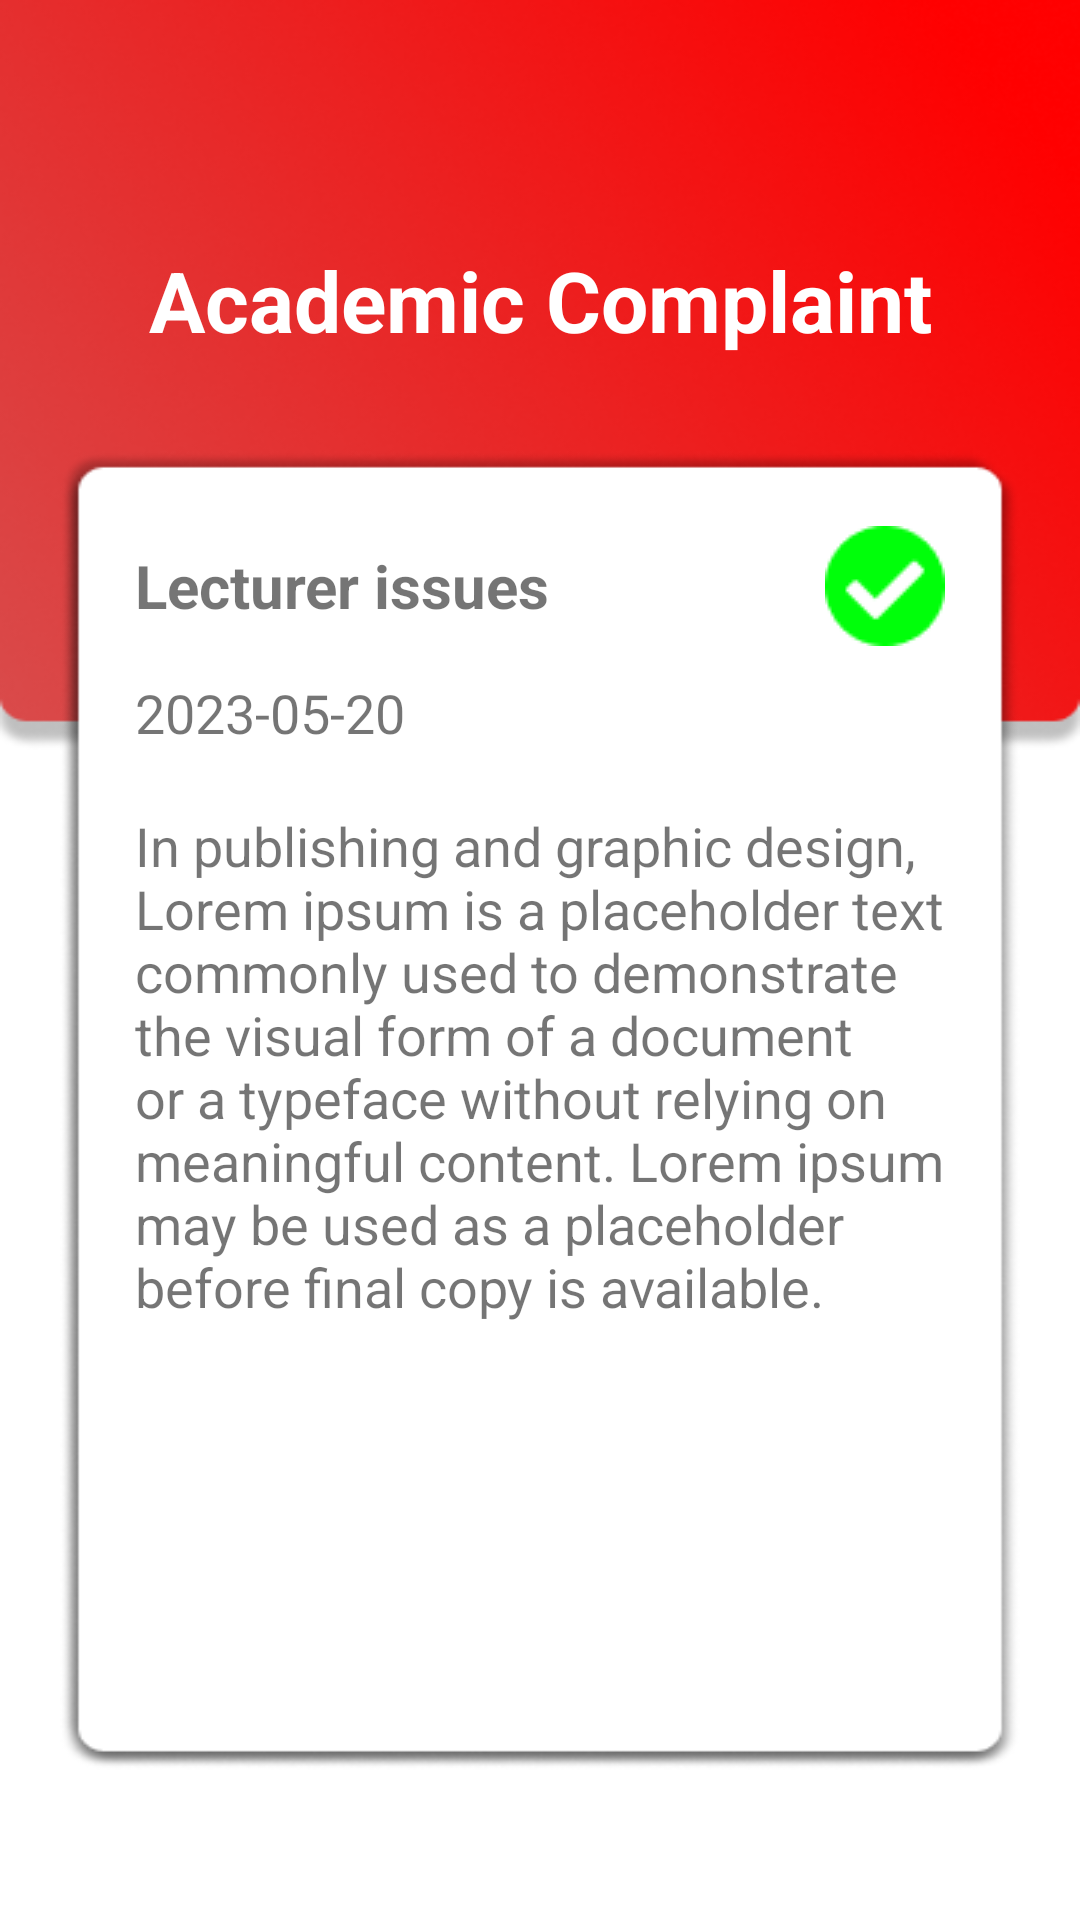

Locate icon controls on the screen. Image size 1080*1920, boxes as (x1, y1, x2, y2).
success: (825, 526, 945, 646)
